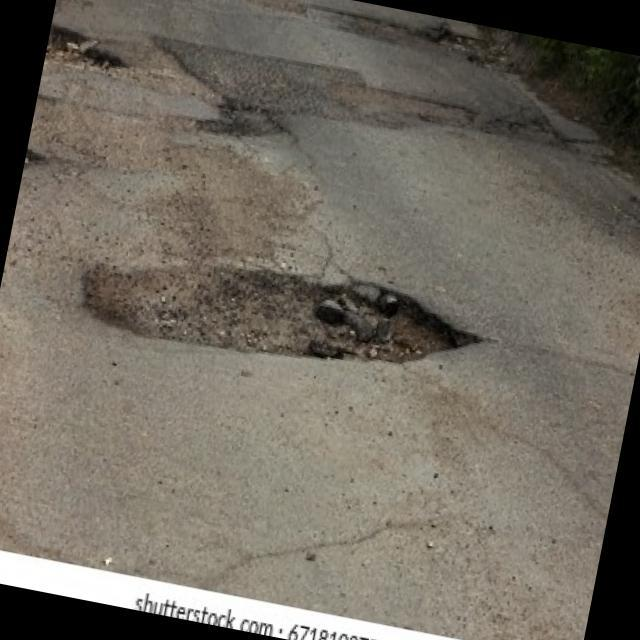Pothole: (72, 223, 488, 401), (41, 17, 136, 92), (194, 92, 291, 150), (432, 26, 500, 70), (20, 136, 52, 188)
